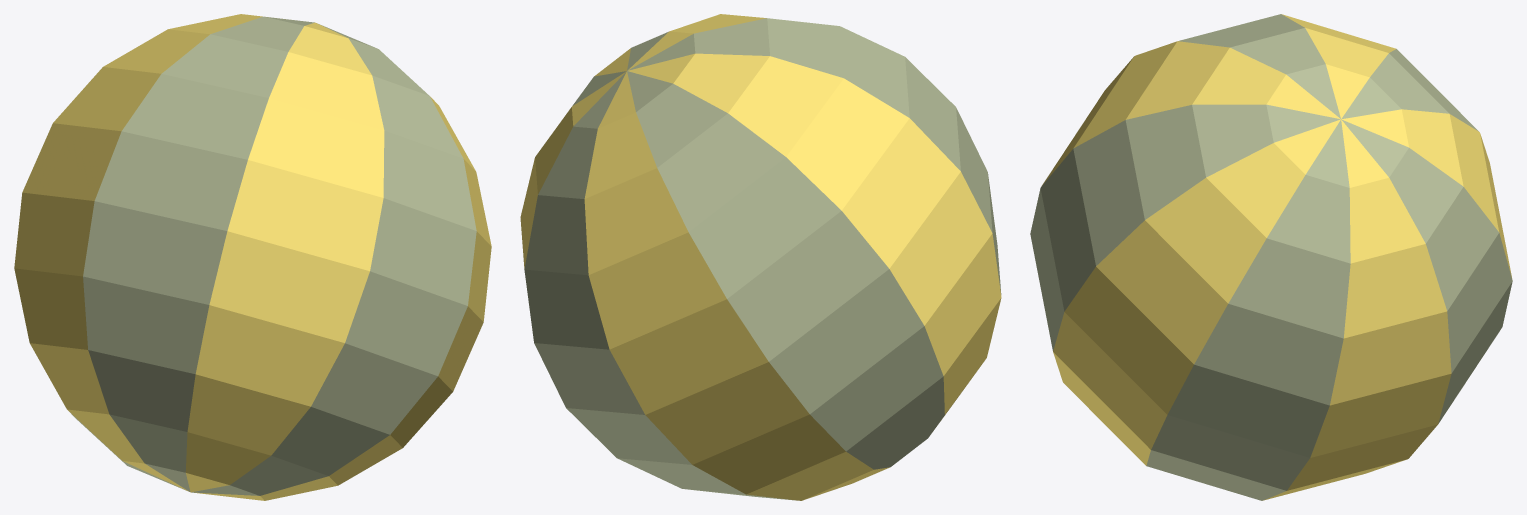
The model's file is Ball_6.fbx.
The picture shows the model from 3 angles, left to right: view 1: azimuth 30°, elevation 25°; view 2: azimuth 150°, elevation 25°; view 3: azimuth 270°, elevation 25°; orthographic projection.
Visible parts, largest first — view 1: Ball_6; view 2: Ball_6; view 3: Ball_6.
Part boxes in pixels (<box>): Ball_6: <box>14,14,491,500</box>; Ball_6: <box>520,14,1001,500</box>; Ball_6: <box>1030,14,1512,500</box>.
Size of the model in its own units: 16.94 by 17.55 by 17.42.
